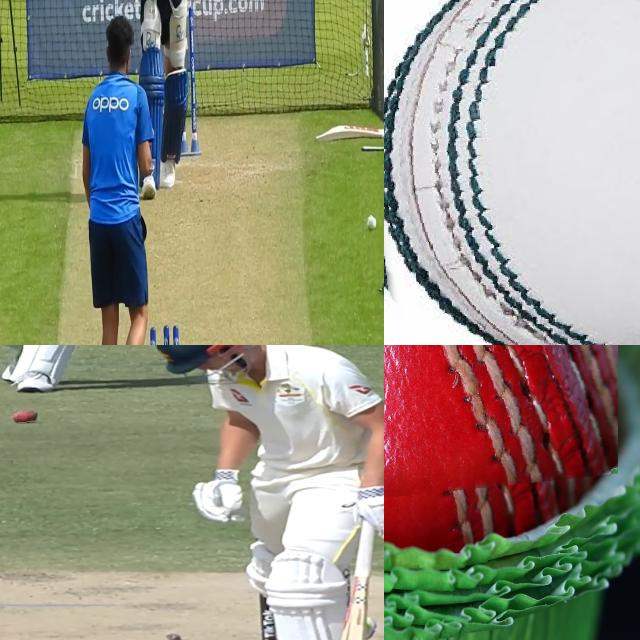Cricket ball: (384, 0, 640, 345), (384, 345, 618, 519), (11, 410, 38, 424), (365, 214, 379, 236)
